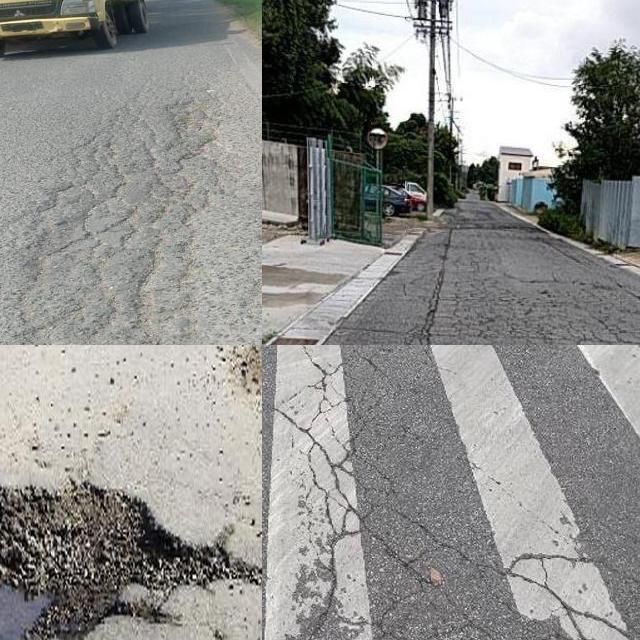Lubang: (0, 482, 220, 640)
Retak Buaya: (0, 78, 243, 345)
